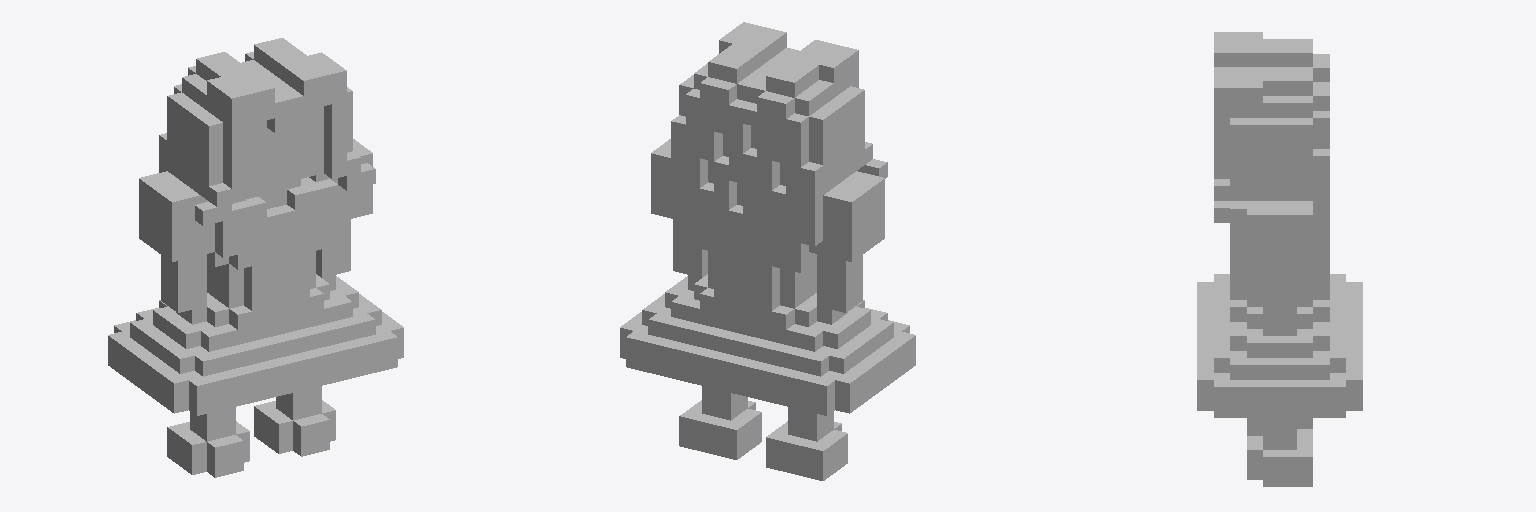
Rendered from MyLady.obj.
The picture shows the model from 3 angles: view 1: azimuth 30°, elevation 25°; view 2: azimuth 150°, elevation 25°; view 3: azimuth 270°, elevation 25°; orthographic projection.
Visible parts, largest first — view 1: object 1; view 2: object 1; view 3: object 1.
Part boxes in pixels (bbox=[...]): object 1: bbox=[108, 38, 403, 477]; object 1: bbox=[620, 22, 915, 480]; object 1: bbox=[1197, 32, 1362, 486].
Size of the model in its own units: 1.6 by 2.6 by 1.